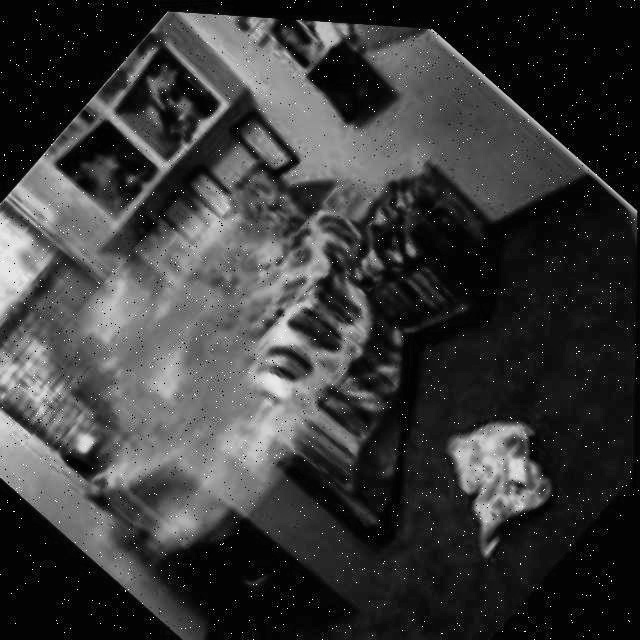Smoke: (0, 56, 428, 627)
